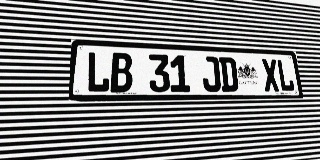1: (169, 55, 190, 92)
3: (149, 54, 170, 92)
B: (110, 52, 133, 92)
D: (219, 57, 239, 92)
J: (201, 56, 221, 92)
L: (86, 51, 110, 93), (276, 59, 295, 91)
X: (261, 59, 280, 92)
